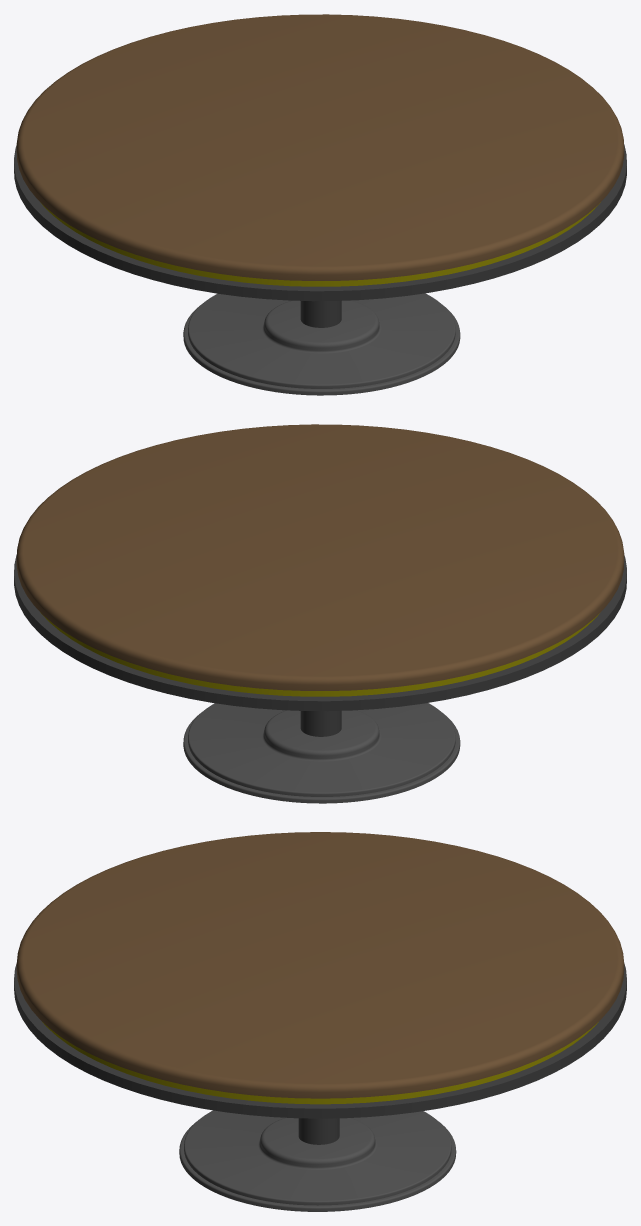
Rendered from TableCircle.fbx.
3 views of the same model, one above another, from view 1: azimuth 30°, elevation 25°; view 2: azimuth 150°, elevation 25°; view 3: azimuth 270°, elevation 25° (orthographic).
Parts seen in each view (by area): view 1: TableCircle; view 2: TableCircle; view 3: TableCircle.
Boxes of the visible parts, box(x1,y1,x2,y2) form: TableCircle: box(14, 14, 626, 395); TableCircle: box(14, 424, 626, 803); TableCircle: box(14, 832, 626, 1211).
Bounding box in the file's own units: 202 × 70.96 × 202.
